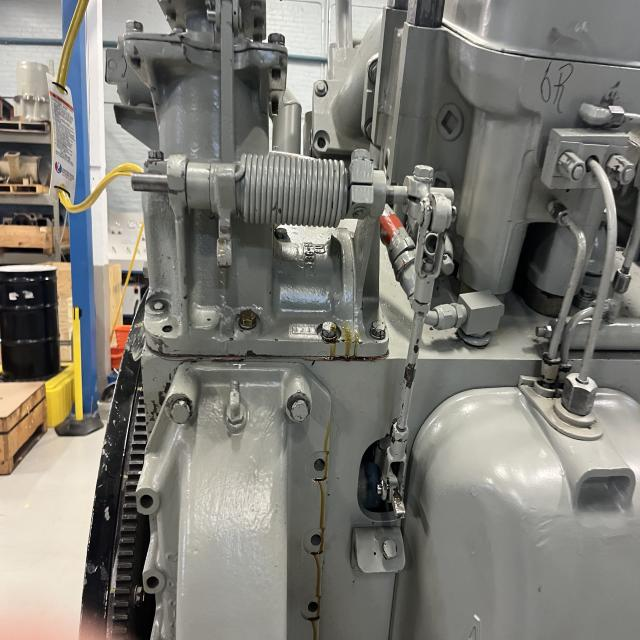Oil Leak: (305, 409, 332, 640), (314, 312, 365, 365)
